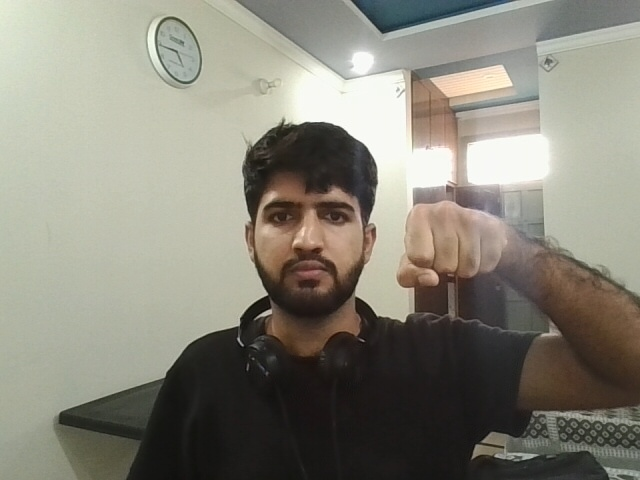Yes: (393, 186, 522, 307)
